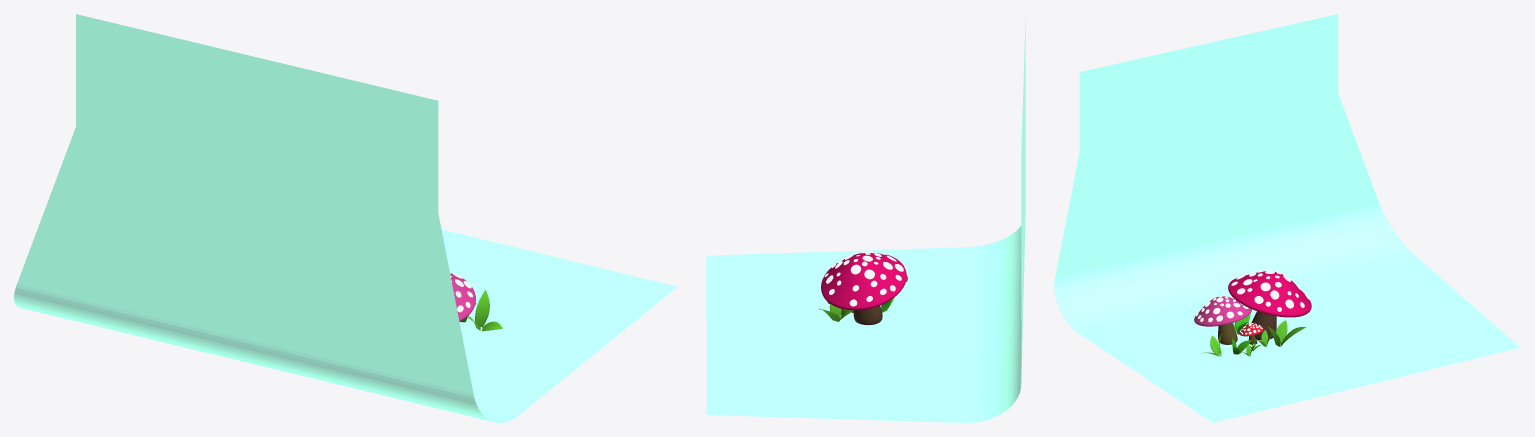
The model's file is masrum.glb.
3 renders of one model, left to right at view 1: azimuth 30°, elevation 25°; view 2: azimuth 150°, elevation 25°; view 3: azimuth 270°, elevation 25°, orthographic. The views are drawn at different scales.
Visible parts, largest first — view 1: Plane, Circle.003; view 2: Plane, Circle.001, Circle; view 3: Plane, Circle.001, Circle.003, Circle.
Boxes of the visible parts, <box> form: Plane: <box>14,14,677,422</box>; Circle.003: <box>450,273,475,321</box>; Plane: <box>706,19,1025,422</box>; Circle.001: <box>821,252,906,310</box>; Circle: <box>853,306,882,325</box>; Plane: <box>1054,14,1520,422</box>; Circle.001: <box>1228,271,1311,317</box>; Circle.003: <box>1194,296,1251,326</box>; Circle: <box>1251,311,1276,340</box>.
Bounding box in the file's own units: 36 × 21.53 × 38.15.
